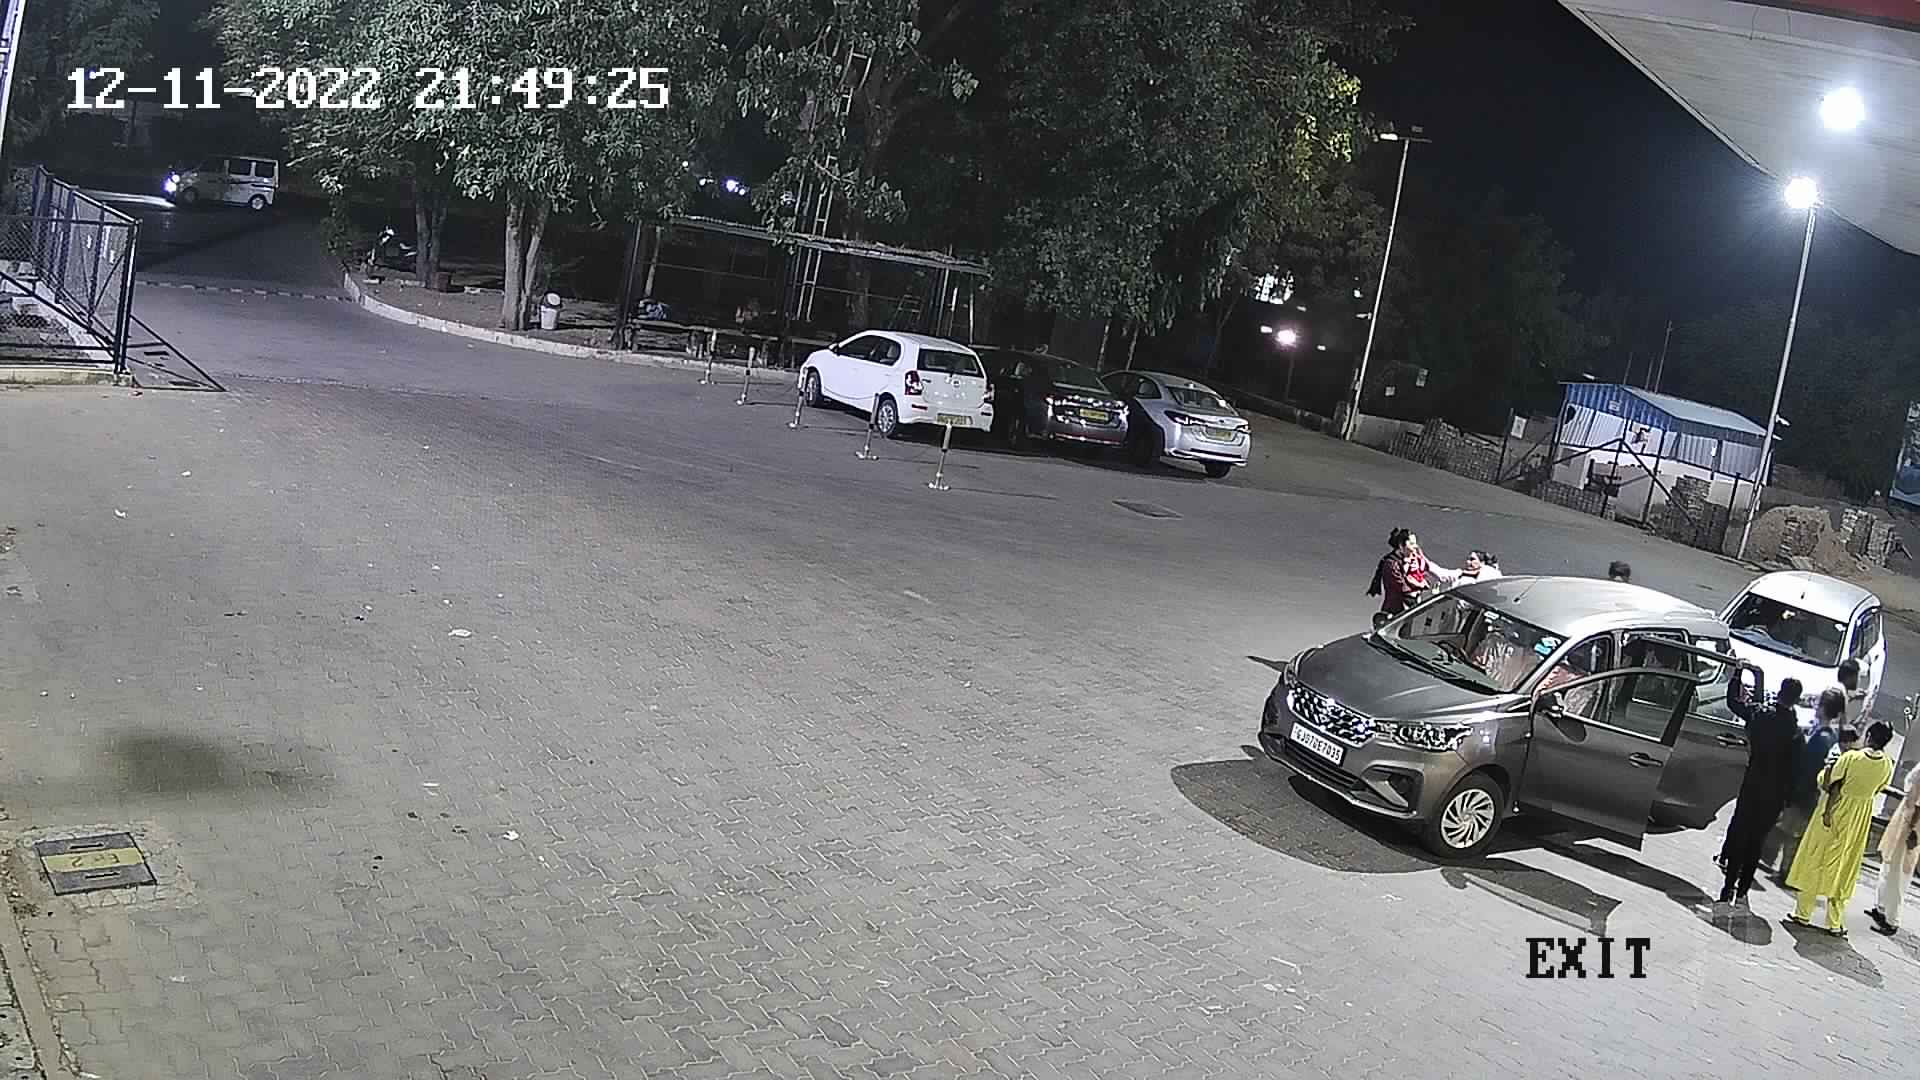Bike: (347, 204, 423, 293)
Car: (1249, 563, 1784, 887), (1702, 560, 1890, 771), (785, 320, 1013, 452), (961, 335, 1142, 465), (1093, 357, 1255, 487), (153, 142, 289, 229)
